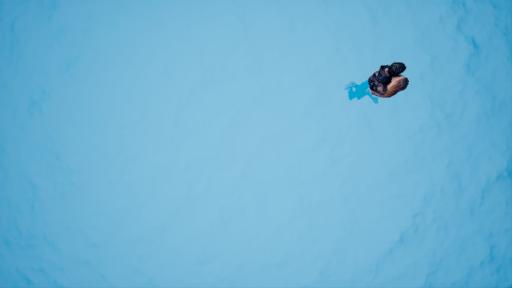person: (341, 60, 411, 108)
